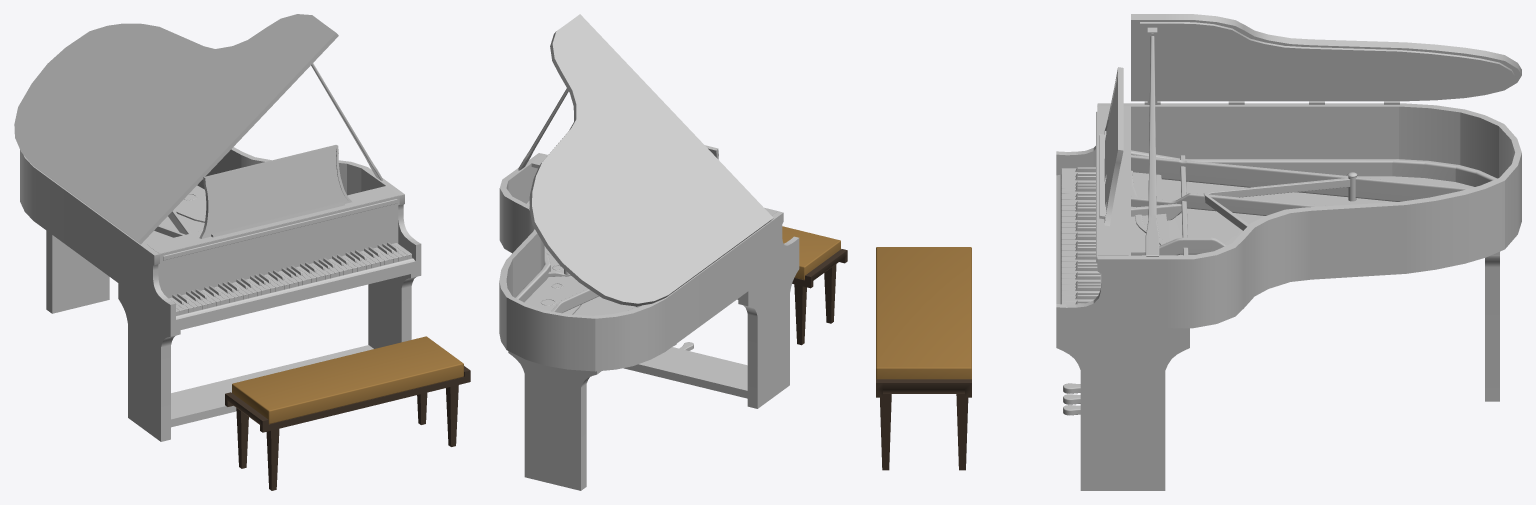
Rendered from m_ball_piano_lod1.fbx.
3 views of the same model, side by side, from view 1: azimuth 30°, elevation 25°; view 2: azimuth 150°, elevation 25°; view 3: azimuth 270°, elevation 25° (orthographic). The views are drawn at different scales.
Parts seen in each view (by area): view 1: polySurface112, polySurface111; view 2: polySurface112, polySurface111; view 3: polySurface112, polySurface111.
Part boxes in pixels (<box>): polySurface112: <box>14,14,421,441</box>; polySurface111: <box>225,336,470,490</box>; polySurface112: <box>499,14,799,490</box>; polySurface111: <box>782,226,847,345</box>; polySurface112: <box>1056,14,1521,490</box>; polySurface111: <box>876,247,971,470</box>.
Size of the model in its own units: 58.48 by 76.44 by 101.
